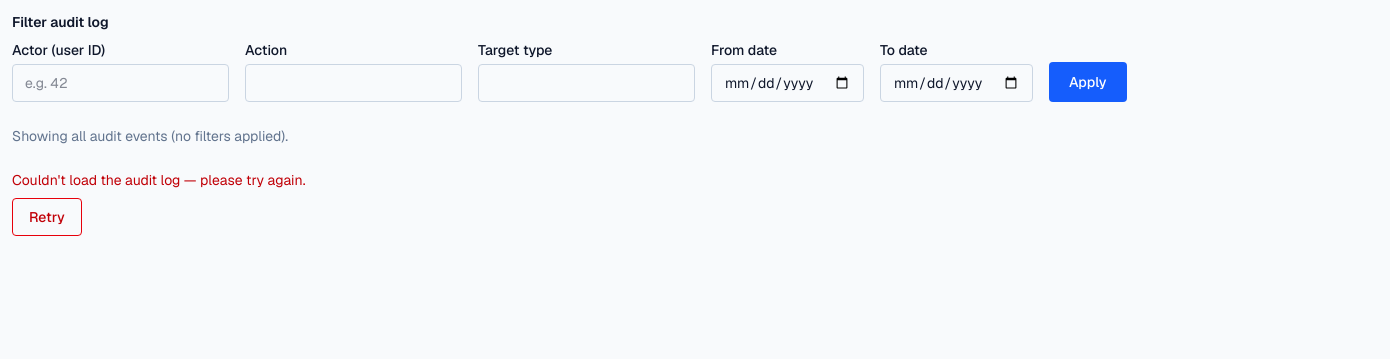
Test: AuditLogViewer › shows an actionable error with Retry if the fetch fails, and retries on click
Expected: the message shows "Couldn't load the audit log", [12,171,306,189]
Click the button "Retry". click: click(47, 217)
box: [12,198,82,236]
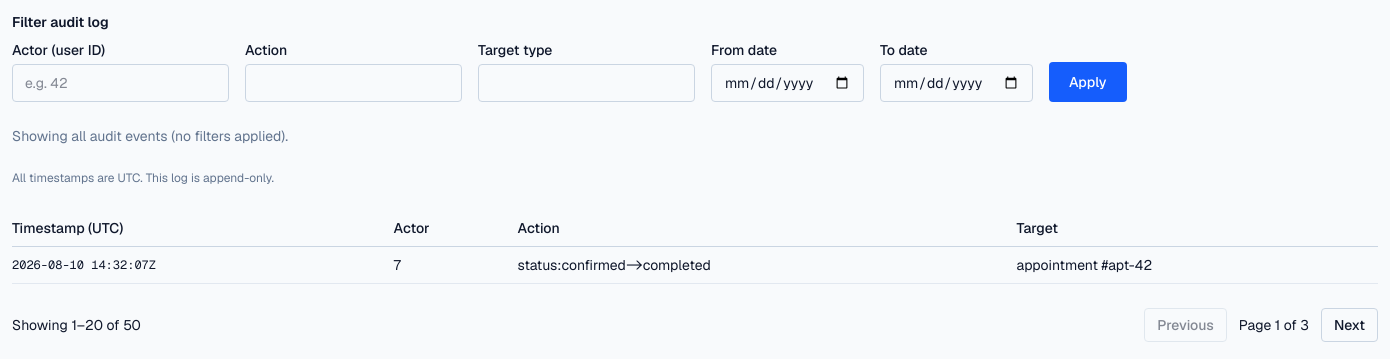
Expected: the table is shown, [12,210,1378,284]
